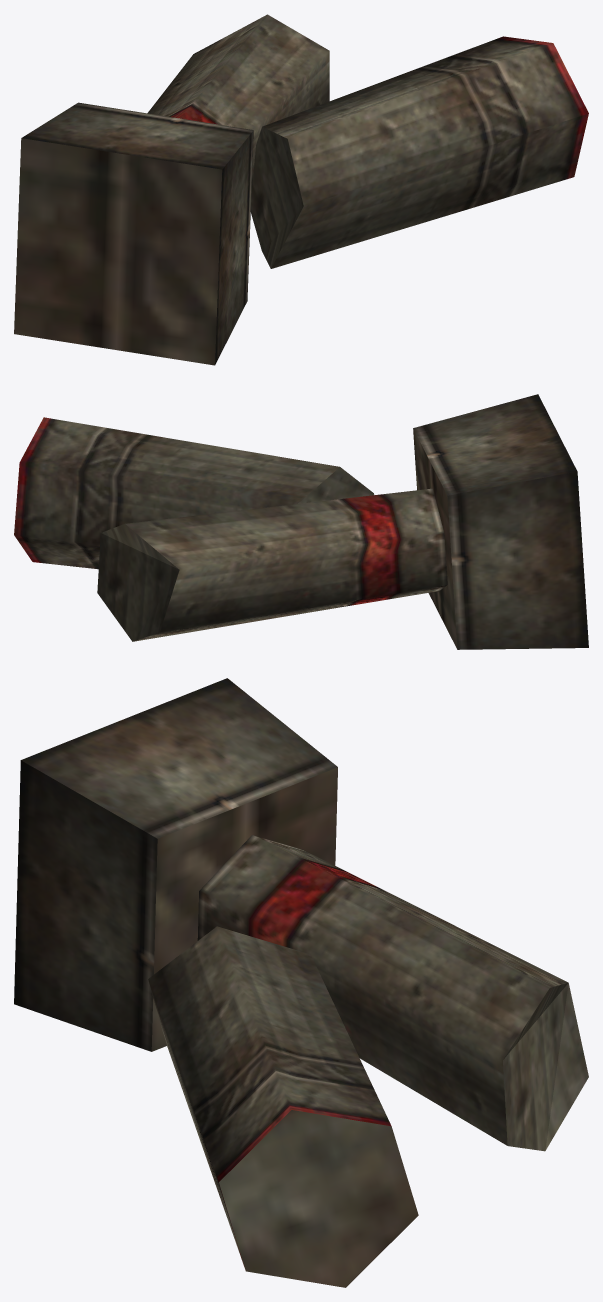
The model's file is column-destr_04.FBX.
The picture shows the model from 3 angles, top to bottom: view 1: azimuth 30°, elevation 25°; view 2: azimuth 150°, elevation 25°; view 3: azimuth 270°, elevation 25°; orthographic projection. The views are drawn at different scales.
Parts seen in each view (by area): view 1: column-destr_04; view 2: column-destr_04; view 3: column-destr_04.
Part boxes in pixels (left/top/right/bottom): column-destr_04: left=14, top=14, right=588, bottom=365; column-destr_04: left=14, top=394, right=588, bottom=649; column-destr_04: left=14, top=678, right=588, bottom=1287.
Bounding box in the file's own units: 2.13 × 0.7057 × 1.41.
